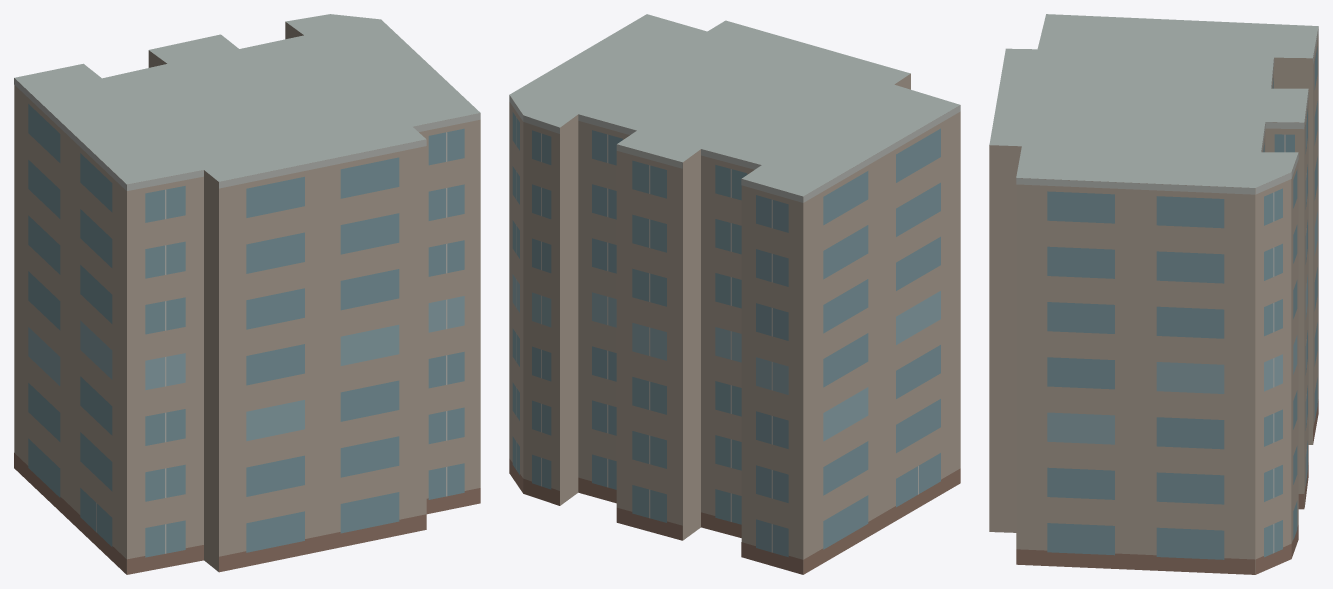
File: survey-upis-32658364.glb
The picture shows the model from 3 angles, left to right: view 1: azimuth 30°, elevation 25°; view 2: azimuth 150°, elevation 25°; view 3: azimuth 270°, elevation 25°; orthographic projection. The views are drawn at different scales.
Parts seen in each view (by area): view 1: survey-upis-32658364.tmp; view 2: survey-upis-32658364.tmp; view 3: survey-upis-32658364.tmp.
Boxes of the visible parts, bbox=[...] form: survey-upis-32658364.tmp: bbox=[14, 14, 480, 574]; survey-upis-32658364.tmp: bbox=[509, 14, 960, 574]; survey-upis-32658364.tmp: bbox=[989, 14, 1318, 574].
Size of the model in its own units: 13.71 by 14.2 by 10.97.
